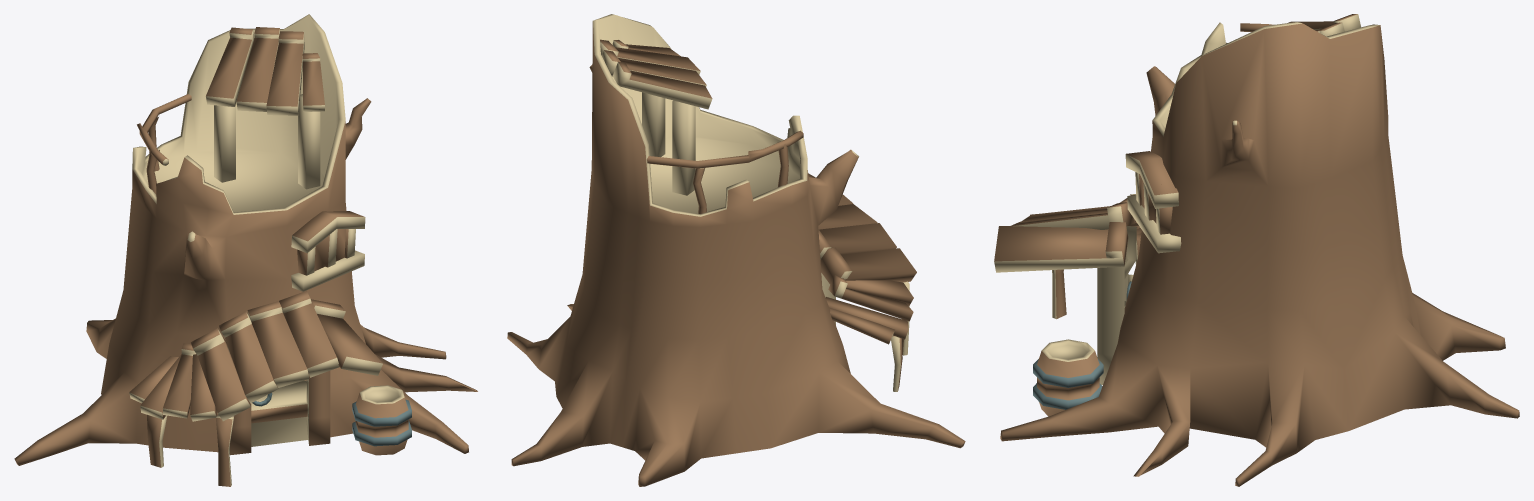
Rendered from treehouse-clubhouse.glb.
3 views of the same model, side by side, from view 1: azimuth 30°, elevation 25°; view 2: azimuth 150°, elevation 25°; view 3: azimuth 270°, elevation 25° (orthographic). The views are drawn at different scales.
Visible parts, largest first — view 1: Cylinder; view 2: Cylinder; view 3: Cylinder.
Part boxes in pixels (<box>): Cylinder: <box>14,14,477,486</box>; Cylinder: <box>507,14,965,486</box>; Cylinder: <box>994,14,1519,486</box>.
Bounding box in the file's own units: 4.96 × 3.85 × 4.53.
